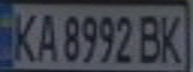2: (112, 10, 139, 64)
8: (57, 10, 81, 63)
9: (78, 10, 100, 63), (97, 11, 118, 64)
A: (30, 9, 60, 63)
B: (136, 10, 166, 65)
K: (6, 8, 42, 63), (154, 10, 190, 64)
